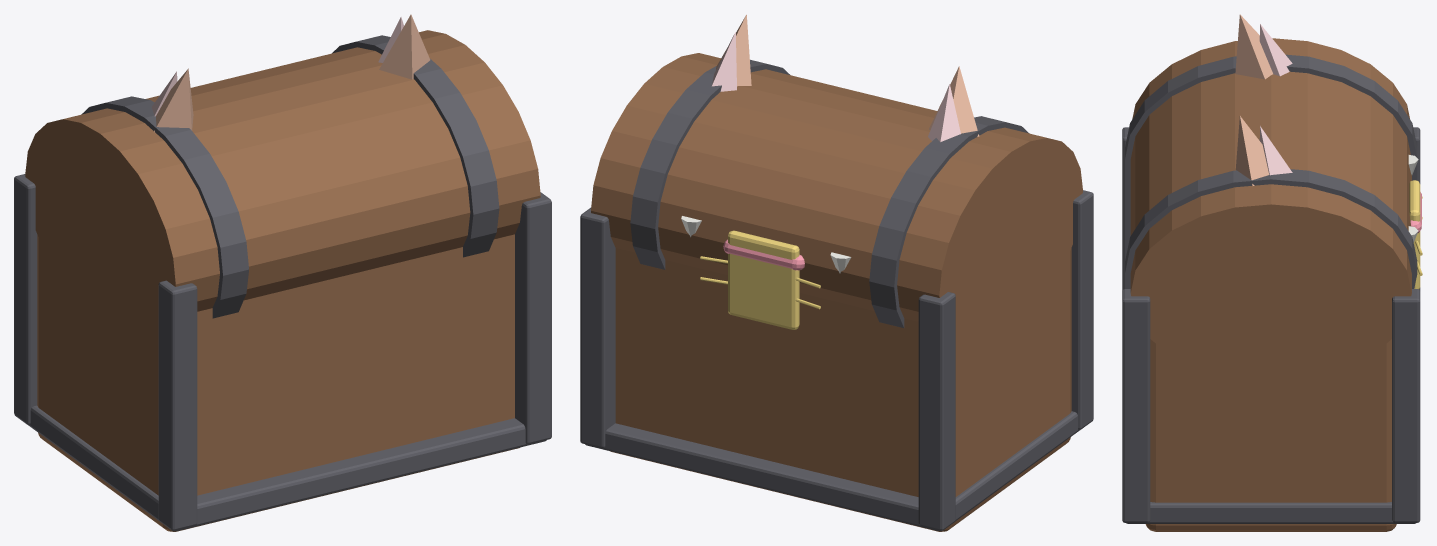
The model's file is cat_mimic.glb.
3 renders of one model, left to right at view 1: azimuth 30°, elevation 25°; view 2: azimuth 150°, elevation 25°; view 3: azimuth 270°, elevation 25°, orthographic. The views are drawn at different scales.
Visible parts, largest first — view 1: LidArch, ChestBody, BaseSkirt, BodyBracket_-0.34_-0.24, BodyBracket_0.34_-0.24, LidBand_-0.24, LidBand_0.24, BodyBracket_-0.34_0.24, CatEarOuter_0.22, CatEarOuter_-0.22; view 2: ChestBody, LidArch, BaseSkirt, BodyBracket_-0.34_0.24, BodyBracket_0.34_0.24, LidBand_-0.24, LidBand_0.24, CatLockPlate, BodyBracket_-0.34_-0.24, CatEarOuter_-0.22, CatEarInner_-0.22, CatEarOuter_0.22 (+2 smaller); view 3: LidArch, ChestBody, BodyBracket_0.34_0.24, BodyBracket_0.34_-0.24, BaseSkirt, LidBand_0.24, LidBand_-0.24, CatEarOuter_-0.22, CatEarOuter_0.22, BodyBracket_-0.34_-0.24, CatEarInner_-0.22, CatLockPlate (+1 smaller).
Part boxes in pixels (<box>): LidArch: <box>25,30,540,338</box>; ChestBody: <box>37,186,519,531</box>; BaseSkirt: <box>28,405,546,531</box>; BodyBracket_-0.34_-0.24: <box>158,280,197,530</box>; BodyBracket_0.34_-0.24: <box>515,192,551,444</box>; LidBand_-0.24: <box>81,96,248,318</box>; LidBand_0.24: <box>332,35,499,257</box>; BodyBracket_-0.34_0.24: <box>14,174,37,424</box>; CatEarOuter_0.22: <box>379,14,430,79</box>; CatEarOuter_-0.22: <box>153,68,193,132</box>; ChestBody: <box>610,200,1071,531</box>; LidArch: <box>591,53,1082,344</box>; BaseSkirt: <box>585,411,1080,531</box>; BodyBracket_-0.34_0.24: <box>918,292,955,530</box>; BodyBracket_0.34_0.24: <box>580,207,615,448</box>; LidBand_-0.24: <box>869,116,1029,327</box>; LidBand_0.24: <box>630,59,789,269</box>; CatLockPlate: <box>728,230,799,329</box>; BodyBracket_-0.34_-0.24: <box>1071,190,1093,429</box>; CatEarOuter_-0.22: <box>929,66,979,136</box>; CatEarInner_-0.22: <box>928,84,960,141</box>; CatEarOuter_0.22: <box>716,14,751,86</box>; LidArch: <box>1130,38,1411,382</box>; ChestBody: <box>1145,291,1396,531</box>; BodyBracket_0.34_0.24: <box>1392,289,1420,522</box>; BodyBracket_0.34_-0.24: <box>1122,289,1150,522</box>; BaseSkirt: <box>1126,502,1415,523</box>; LidBand_0.24: <box>1125,169,1417,288</box>; LidBand_-0.24: <box>1125,54,1417,183</box>; CatEarOuter_-0.22: <box>1235,14,1272,79</box>; CatEarOuter_0.22: <box>1235,116,1269,186</box>; BodyBracket_-0.34_-0.24: <box>1122,127,1130,290</box>; CatEarInner_-0.22: <box>1259,24,1292,76</box>; CatLockPlate: <box>1409,180,1420,289</box>.
Size of the model in its own units: 0.73 by 0.761 by 0.5344.
